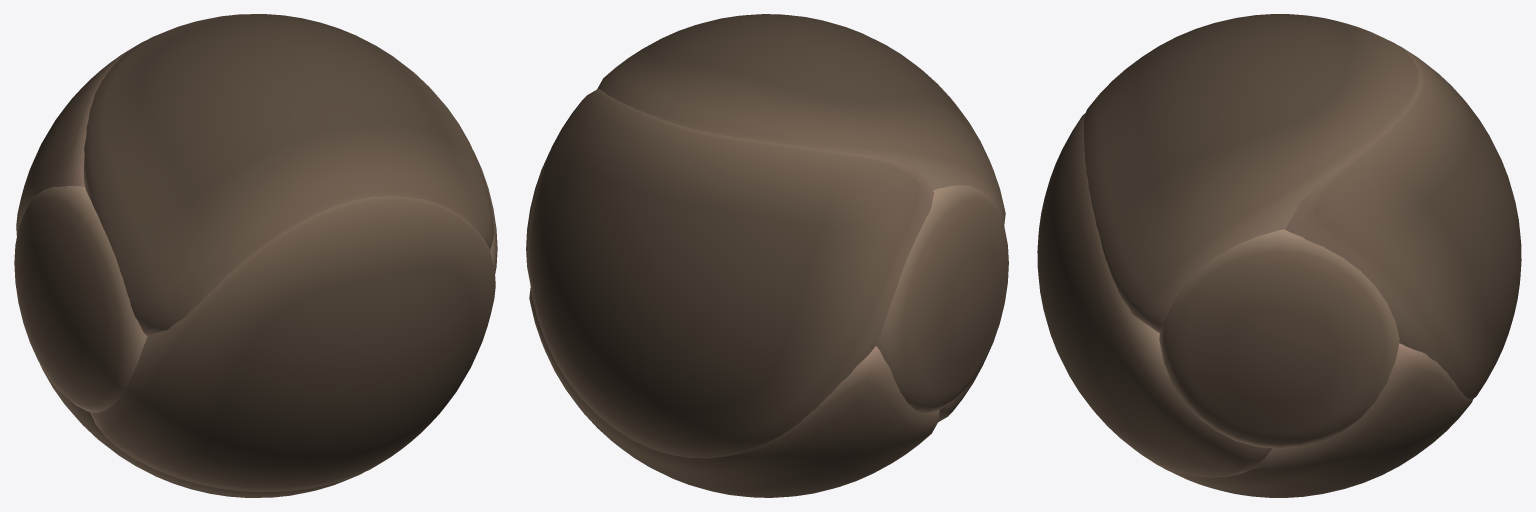
File: playerRolling.fbx
3 renders of one model, left to right at view 1: azimuth 30°, elevation 25°; view 2: azimuth 150°, elevation 25°; view 3: azimuth 270°, elevation 25°, orthographic.
Parts seen in each view (by area): view 1: Cube.001; view 2: Cube.001; view 3: Cube.001.
Boxes of the visible parts, x1,y1,x2,y2 form: Cube.001: (14,14,497,497); Cube.001: (526,14,1008,497); Cube.001: (1037,14,1521,497).
Bounding box in the file's own units: 200 × 200 × 200.
